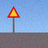sign: (7, 6, 20, 35)
